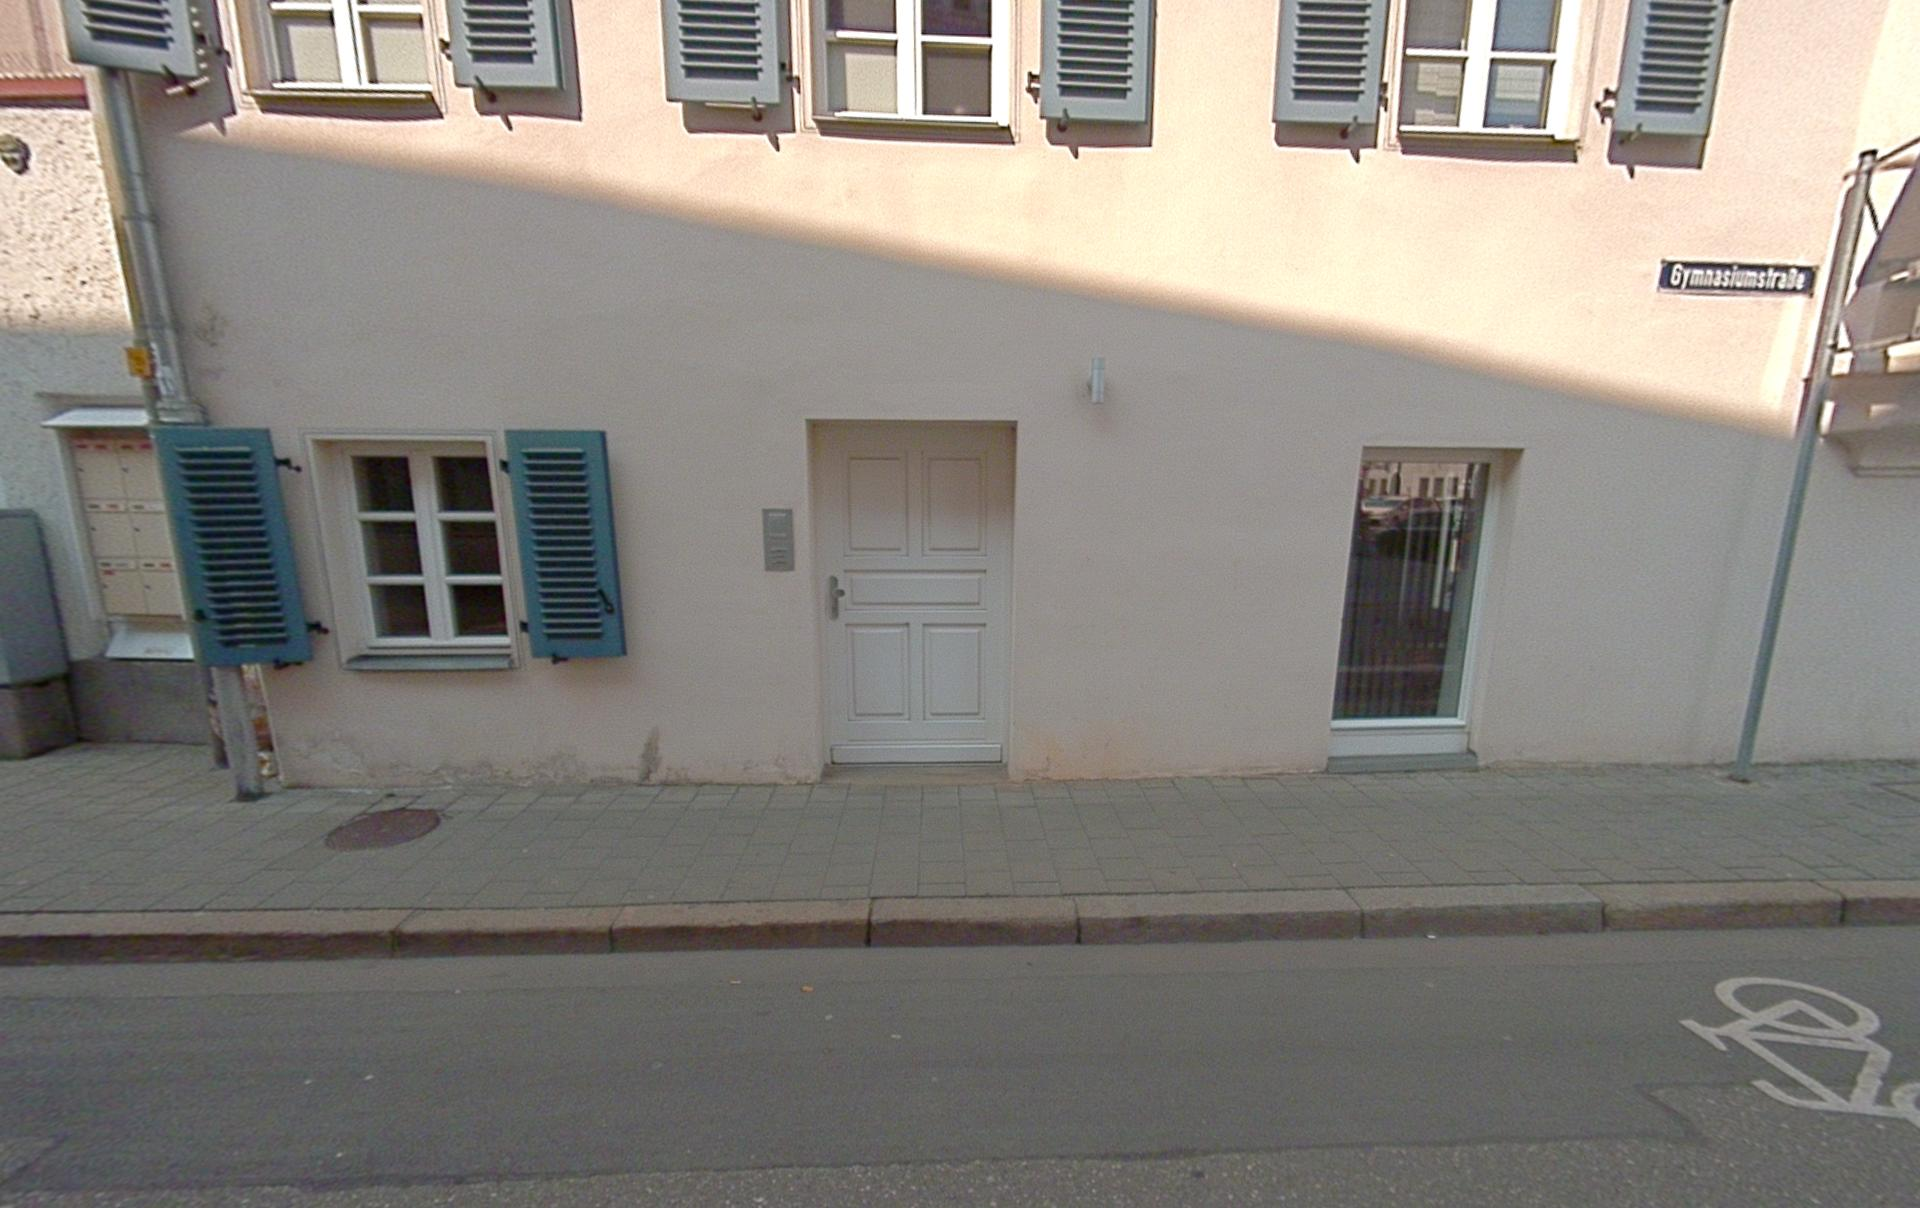traffic sign: (1656, 257, 1818, 298)
